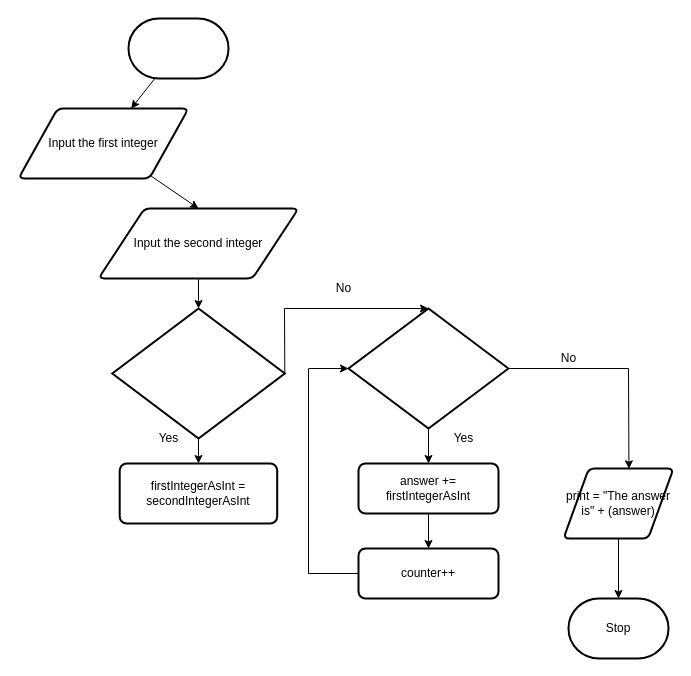
This 691x676 diagram has some shape labels left out. Here are the shapes that lost their labels. From the top down, the box of each, then its label:
(127, 17, 229, 79): Start
(111, 307, 285, 439): if (secondIntegerAsInt < 0)
(347, 307, 509, 429): while (counter < secondIntegerAsInt)
